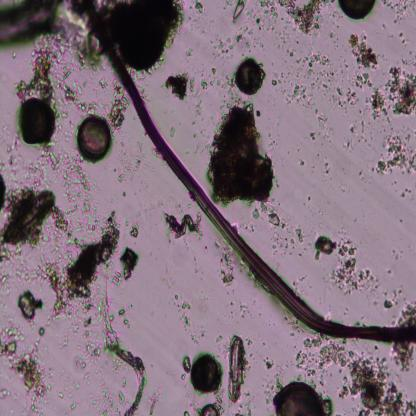Background material: (295, 333, 414, 416), (43, 204, 123, 310), (211, 103, 278, 211), (28, 139, 99, 224), (0, 319, 58, 416), (56, 0, 137, 69), (0, 188, 61, 267), (0, 0, 59, 50), (14, 38, 62, 99), (335, 232, 375, 301), (55, 56, 93, 118), (374, 129, 416, 179), (274, 0, 324, 38), (173, 294, 208, 348), (145, 0, 186, 46), (387, 54, 416, 119), (93, 79, 128, 131), (104, 243, 138, 295), (161, 205, 203, 245), (206, 63, 236, 106), (348, 32, 381, 70), (210, 31, 252, 59), (211, 241, 236, 285), (250, 200, 289, 228), (74, 338, 102, 376), (164, 64, 193, 100), (274, 226, 306, 258), (91, 381, 120, 416), (0, 264, 45, 286), (47, 297, 80, 326), (119, 148, 144, 186), (248, 0, 278, 31), (286, 82, 315, 112), (367, 86, 391, 122), (16, 291, 42, 323), (336, 83, 360, 114), (224, 298, 252, 323), (387, 0, 416, 23), (394, 298, 416, 328), (191, 90, 208, 127), (147, 385, 167, 416), (301, 52, 328, 74), (61, 322, 82, 350), (351, 67, 373, 92), (228, 0, 250, 22), (316, 238, 338, 259), (125, 210, 142, 237), (80, 309, 96, 337), (315, 67, 334, 90), (314, 107, 330, 130), (266, 377, 281, 401), (0, 172, 8, 208), (390, 247, 403, 264), (166, 123, 180, 138), (401, 185, 413, 200), (383, 296, 396, 309), (119, 308, 128, 326), (396, 284, 403, 306), (263, 357, 277, 368), (115, 389, 126, 403), (193, 0, 204, 14), (244, 335, 256, 347), (344, 138, 355, 151), (283, 46, 294, 58), (231, 409, 249, 416), (274, 71, 284, 82), (213, 335, 225, 344), (224, 0, 235, 9), (83, 372, 92, 383), (68, 399, 76, 411), (356, 169, 364, 181), (327, 32, 336, 42), (324, 161, 330, 175), (201, 77, 208, 89), (182, 407, 191, 416), (360, 118, 365, 134), (350, 124, 356, 136), (310, 128, 316, 140), (74, 379, 81, 388), (272, 79, 280, 86), (67, 391, 75, 398), (57, 391, 64, 399), (120, 378, 126, 386), (298, 160, 304, 168), (306, 194, 312, 202), (398, 218, 404, 225), (294, 57, 300, 64), (186, 49, 191, 57), (402, 40, 408, 46), (386, 270, 392, 276), (382, 22, 386, 29), (64, 386, 69, 391), (398, 31, 402, 37)
Cellulose filter fibre: (99, 308, 144, 416)
Diatom: (118, 13, 170, 74), (75, 112, 118, 166), (274, 377, 329, 416), (16, 97, 59, 143), (186, 352, 224, 401), (224, 331, 249, 400), (232, 55, 267, 99), (336, 0, 378, 20), (196, 402, 223, 416)
Microfibre: (60, 45, 373, 416)
